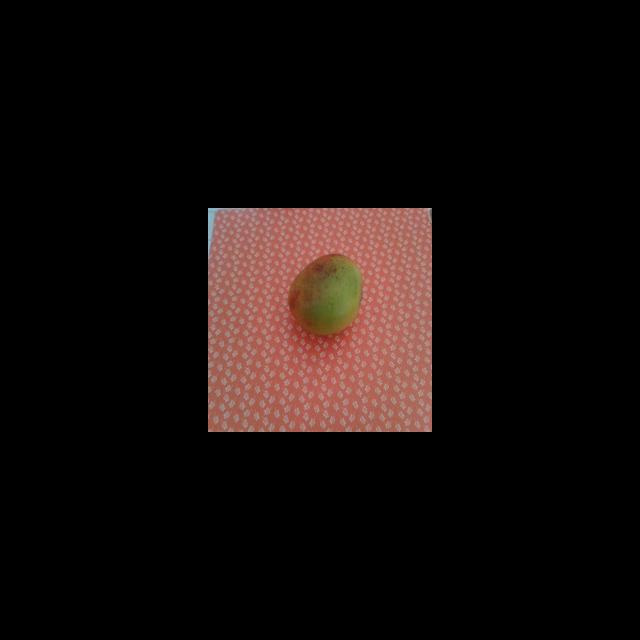Mango: (287, 253, 362, 336)
